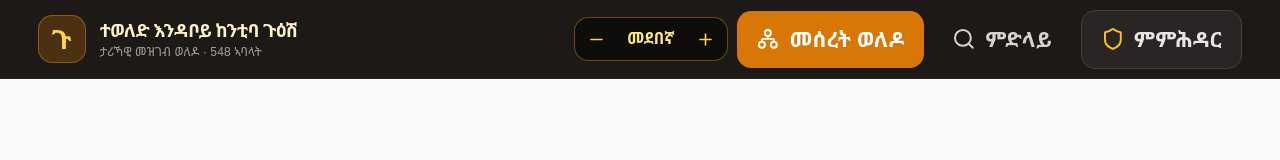
UI Navigation, Tree Interaction, and Safety Verification › 18. Navbar: renders immune brand title and font stepper decreaser (-) and increaser (+)
Expected: the heading "ተወለድ እንዳቦይ ከንቲባ ጉዕሽ" is shown, [100,19,298,42]
Expected: the text "ታሪኻዊ መዝገብ ወለዶ · 548 ኣባላት" is shown, [100,43,262,59]
Click the button named "ፊደል ኣንእስ".
click(596, 39)  # box [577,20,615,58]
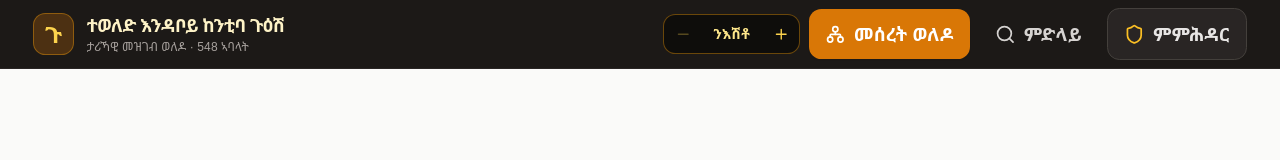
Now the text "ንእሽቶ" is shown, box [714,24,750,43]
Now the button named "ፊደል ኣንእስ" is disabled, box [666,18,699,50]
Click the button named "ፊደል ኣዕቢ".
click(781, 34)  # box [764,18,797,50]
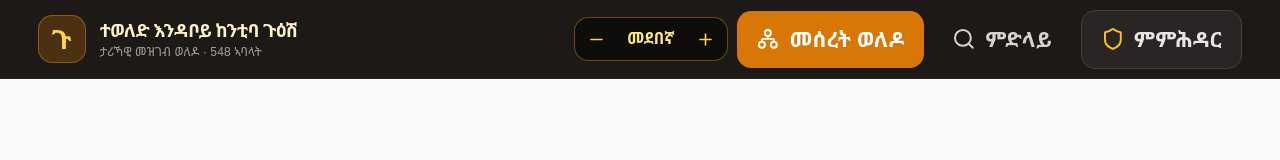
Now the text "መደበኛ" is shown, box [627,26,675,52]
Click the button named "ፊደል ኣዕቢ".
click(706, 39)  # box [686,20,724,58]
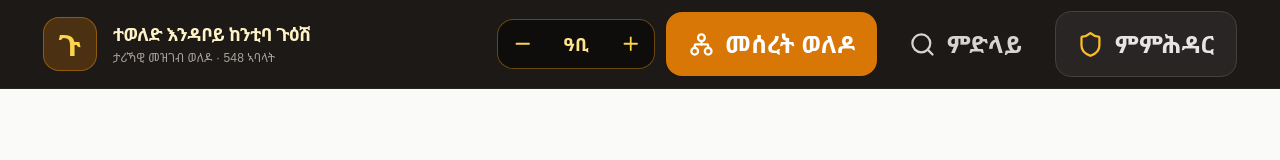
Now the text "ዓቢ" is shown, box [564,32,589,56]
Click the button named "ፊደል ኣዕቢ".
click(630, 44)  # box [609,22,652,66]
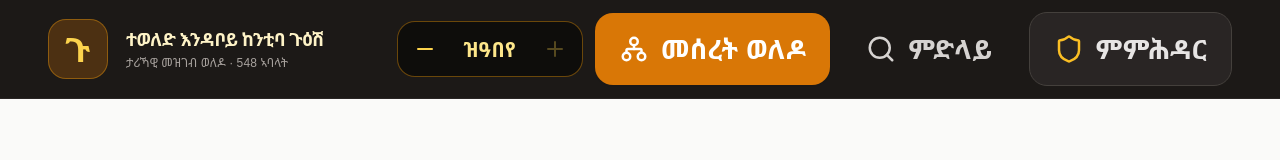
Now the text "ዝዓበየ" is shown, box [464,33,516,65]
Now the button named "ፊደል ኣዕቢ" is disabled, box [531,25,579,73]
